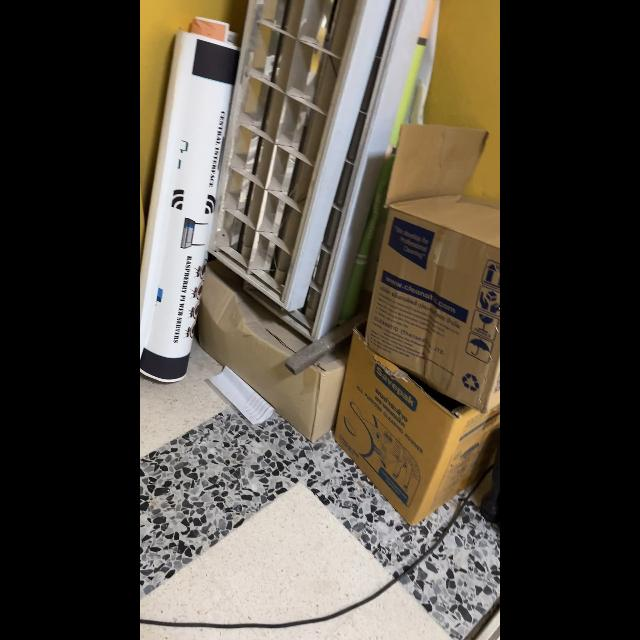cardboard_box: (360, 120, 500, 414), (328, 333, 500, 529)
